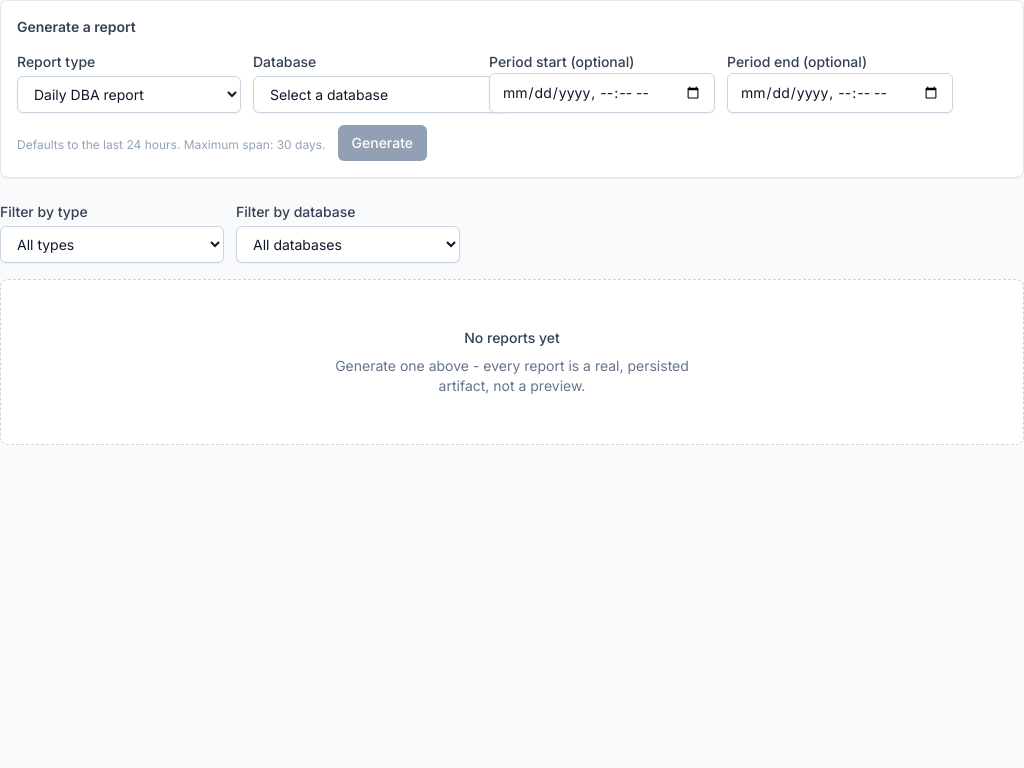
Scenario: ReportsPage › generates a report and opens its content in the view drawer
The image size is (1024, 768).
Expected: the text "No reports yet" is shown, [464,328,560,348]
Select "PROD01" in the dropdown labelled "Database" at (381, 94), box [253,76,509,113]
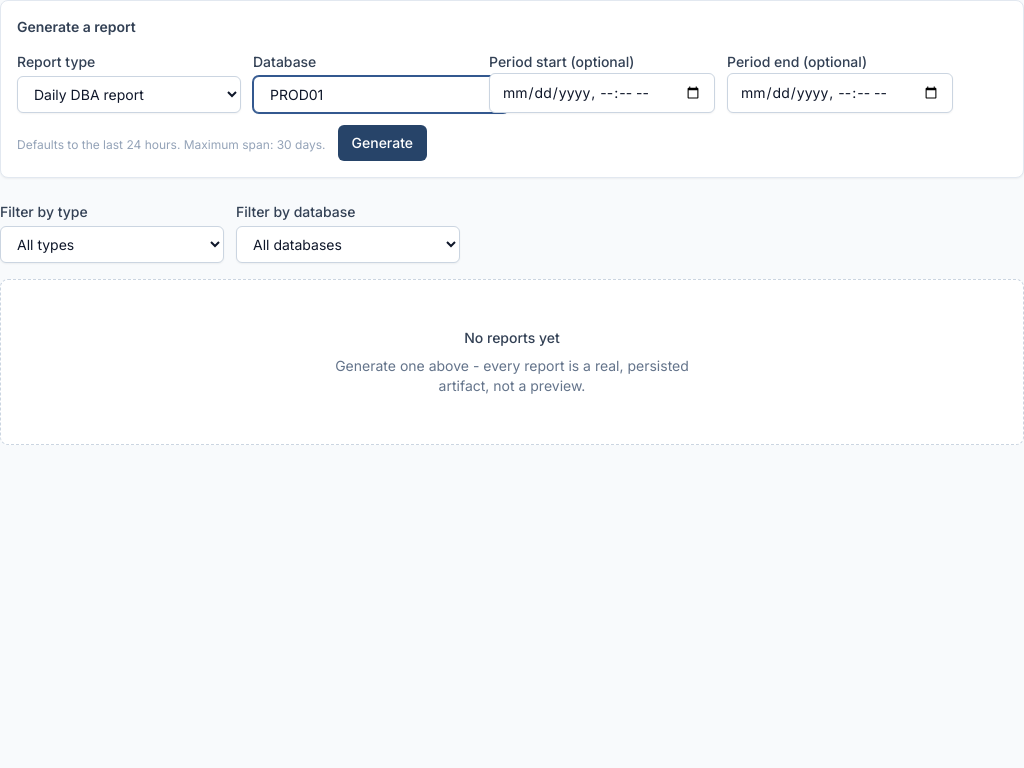
Click the button "Generate".
click(382, 143)  # box [338,125,427,161]
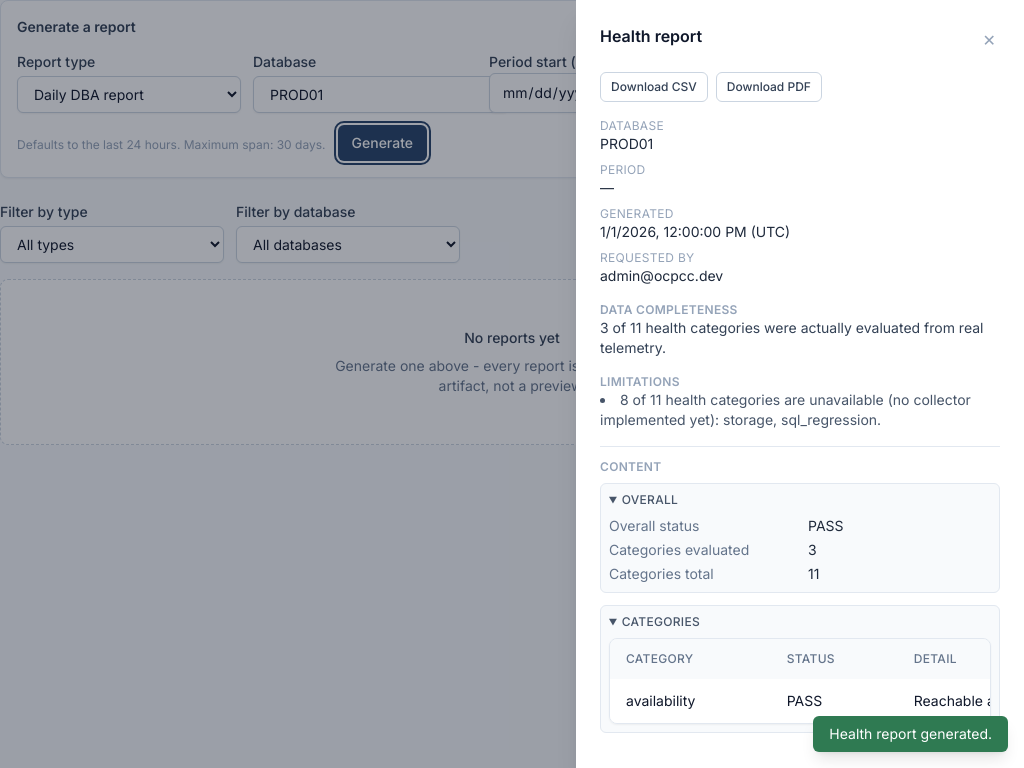
Expected: the text "3 of 11 health categories were actually evaluated from real telemetry." is shown, [600,318,1000,358]
